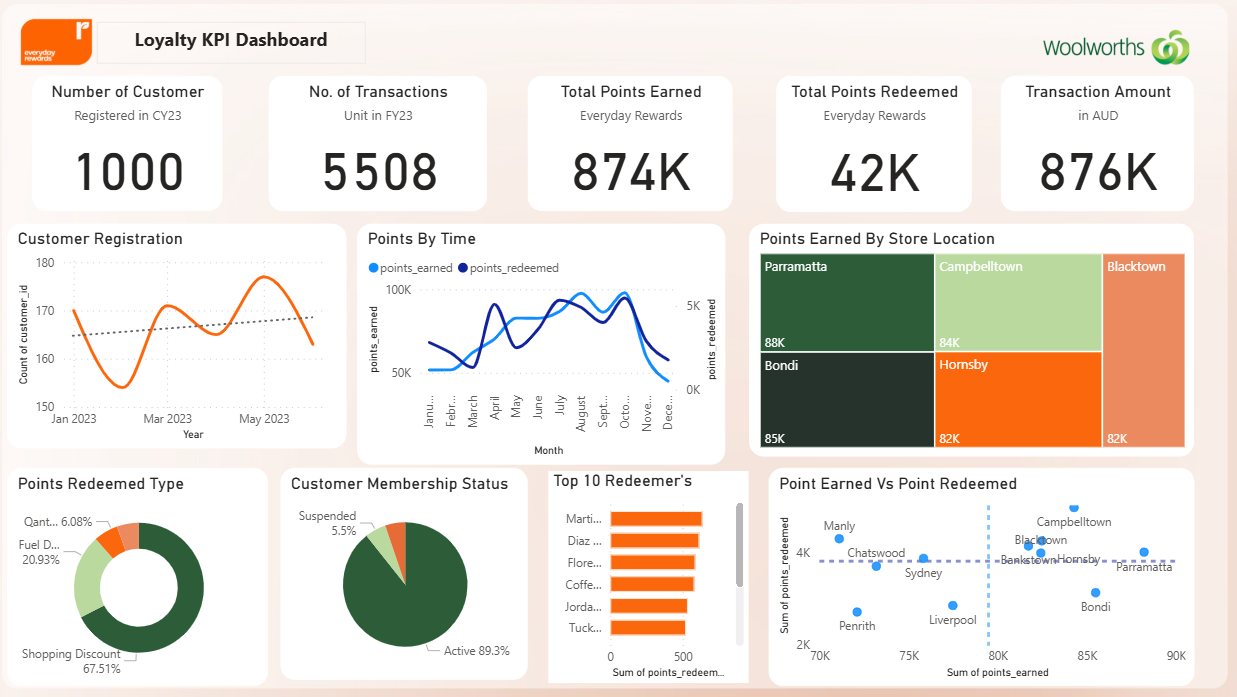

The page's visual inventory and layout, read from the dashboard file:
{"tool":"powerbi","page":{"name":"Loyalty reward card","canvas":[1280,720],"ordinal":0},"visuals":[{"type":"card","title":"Number of Customer","fields":{"Values":["wool_customers1.customer_id"]},"box":[42.1,79.8,195,138.5],"z":0},{"type":"card","title":"No. of Transactions","fields":{"Values":["wool_transactions2.transaction_id"]},"box":[284.8,79.8,223.9,138.5],"z":1000},{"type":"card","title":"Total Points Earned","fields":{"Values":["wool_transactions2.points_earned"]},"box":[550.8,79.8,210.6,138.5],"z":2000},{"type":"card","title":"Total Points Redeemed","fields":{"Values":["wool_transactions2.points_redeemed"]},"box":[805.7,79.8,200.6,139.6],"z":3000},{"type":"card","title":"Transaction Amount","fields":{"Values":["wool_transactions2.transaction_amount"]},"box":[1036.2,79.8,198.4,138.5],"z":4000},{"type":"lineChart","title":"Customer Registration","fields":{"Y":["wool_customers1.customer_id"],"Category":["wool_customers1.registration_date.Variation.Date Hierarchy.Year","wool_customers1.registration_date.Variation.Date Hierarchy.Month"]},"box":[16.3,232,348.6,230.9],"z":5000},{"type":"lineChart","title":"Points By Time","fields":{"Y":["wool_transactions2.points_earned"],"Y2":["wool_transactions2.points_redeemed"],"Category":["wool_transactions2.transaction_date.Variation.Date Hierarchy.Year","wool_transactions2.transaction_date.Variation.Date Hierarchy.Month"]},"box":[375.8,232,378,247.3],"z":6000},{"type":"treemap","title":"Points Earned By Store Location","fields":{"Values":["wool_transactions2.points_earned"],"Group":["wool_transactions2.store_location"]},"box":[777.8,232,456.4,238.6],"z":7000},{"type":"donutChart","title":"Points Redeemed Type","fields":{"Category":["wool_transactions2.redemption_type"],"Y":["wool_transactions2.redemption_value"]},"box":[16.3,482.6,268,224.4],"z":8000},{"type":"pieChart","title":"Customer Membership Status","fields":{"Y":["wool_customers1.customer_id"],"Category":["wool_customers1.membership_status"]},"box":[297.4,482.6,253.8,217.9],"z":9000},{"type":"clusteredBarChart","title":"Top 10 Redeemer''s","fields":{"Y":["wool_transactions2.points_redeemed"],"Category":["wool_customers1.Fullname"]},"box":[571.9,485.8,205.9,217.9],"z":10000},{"type":"scatterChart","title":"Point Earned Vs Point Redeemed","fields":{"X":["wool_transactions2.points_earned"],"Category":["wool_transactions2.store_location"],"Y":["wool_transactions2.points_redeemed"]},"box":[797.4,482.6,436.8,224.4],"z":11000},{"type":"image","box":[1075,0,159.6,100.8],"z":12000},{"type":"image","box":[25.1,0,83.9,90.4],"z":13000},{"type":"textbox","box":[108.9,24,275.6,43.6],"z":14000}]}

Visuals, with their boxes in screenshot pixels (x1, y1, x2, y2), scaled from the page's 1280x720 canvas onto the 1237x697 screenshot:
"Number of Customer" card: [left=41, top=77, right=229, bottom=211]
"No. of Transactions" card: [left=275, top=77, right=492, bottom=211]
"Total Points Earned" card: [left=532, top=77, right=736, bottom=211]
"Total Points Redeemed" card: [left=779, top=77, right=972, bottom=212]
"Transaction Amount" card: [left=1001, top=77, right=1193, bottom=211]
"Customer Registration" lineChart: [left=16, top=225, right=353, bottom=448]
"Points By Time" lineChart: [left=363, top=225, right=728, bottom=464]
"Points Earned By Store Location" treemap: [left=752, top=225, right=1193, bottom=456]
"Points Redeemed Type" donutChart: [left=16, top=467, right=275, bottom=684]
"Customer Membership Status" pieChart: [left=287, top=467, right=533, bottom=678]
"Top 10 Redeemer''s" clusteredBarChart: [left=553, top=470, right=752, bottom=681]
"Point Earned Vs Point Redeemed" scatterChart: [left=771, top=467, right=1193, bottom=684]
image: [left=1039, top=0, right=1193, bottom=98]
image: [left=24, top=0, right=105, bottom=88]
textbox: [left=105, top=23, right=372, bottom=65]
